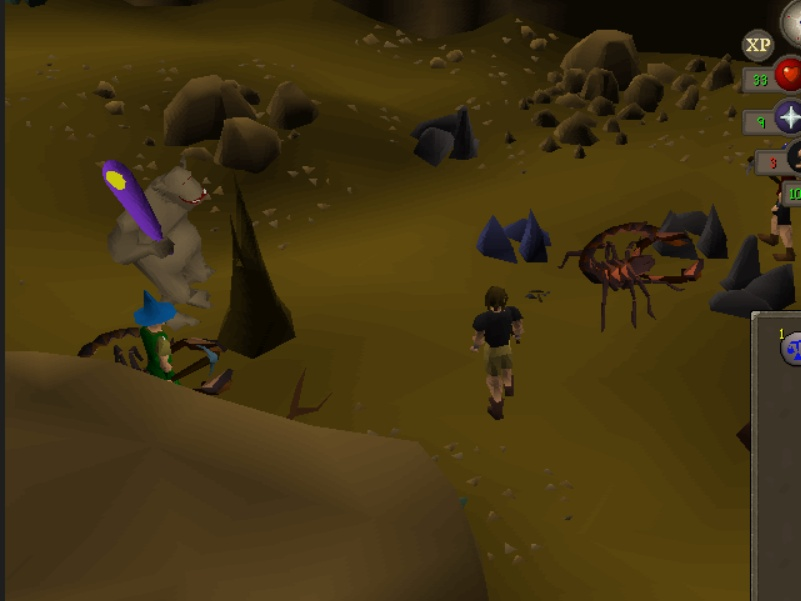mithril: (475, 198, 555, 276)
